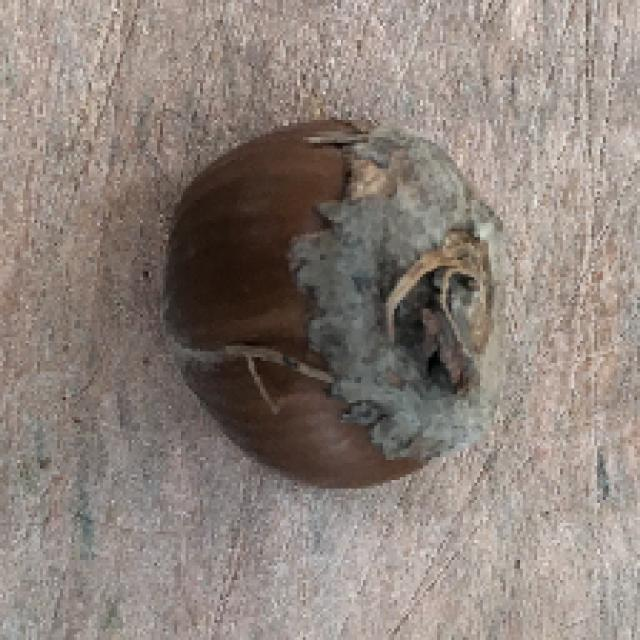DamagedHazelnut: (162, 119, 520, 488)
